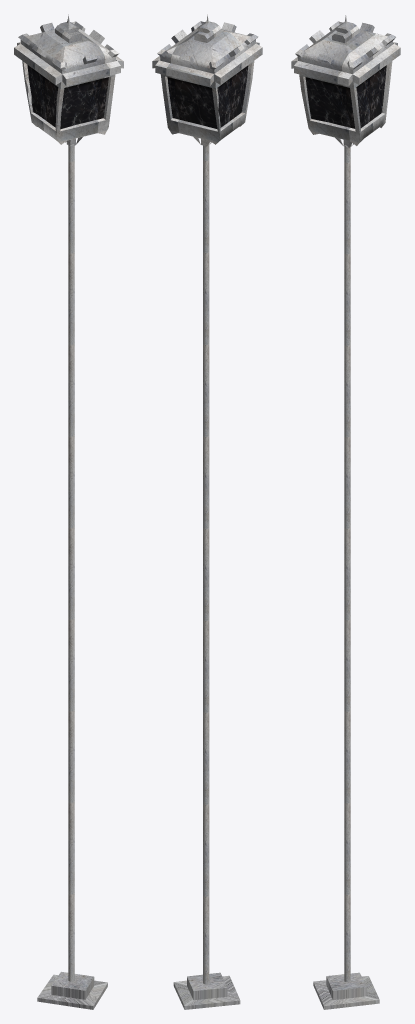
File: poste_de_luz.obj
3 views of the same model, side by side, from view 1: azimuth 30°, elevation 25°; view 2: azimuth 150°, elevation 25°; view 3: azimuth 330°, elevation 25° (orthographic).
Visible parts, largest first — view 1: Object023, Cylinder008, Object024; view 2: Object023, Cylinder008, Object024; view 3: Object023, Cylinder008, Object024.
Boxes of the visible parts, bbox=[...] form: Object023: bbox=[14, 14, 123, 146]; Cylinder008: bbox=[68, 144, 74, 981]; Object024: bbox=[37, 971, 107, 1009]; Object023: bbox=[152, 14, 262, 146]; Cylinder008: bbox=[203, 144, 209, 984]; Object024: bbox=[173, 972, 240, 1009]; Object023: bbox=[291, 15, 400, 147]; Cylinder008: bbox=[344, 145, 350, 981]; Object024: bbox=[313, 972, 379, 1009].
Bounding box in the file's own units: 0.3692 × 4.9 × 0.4473.
